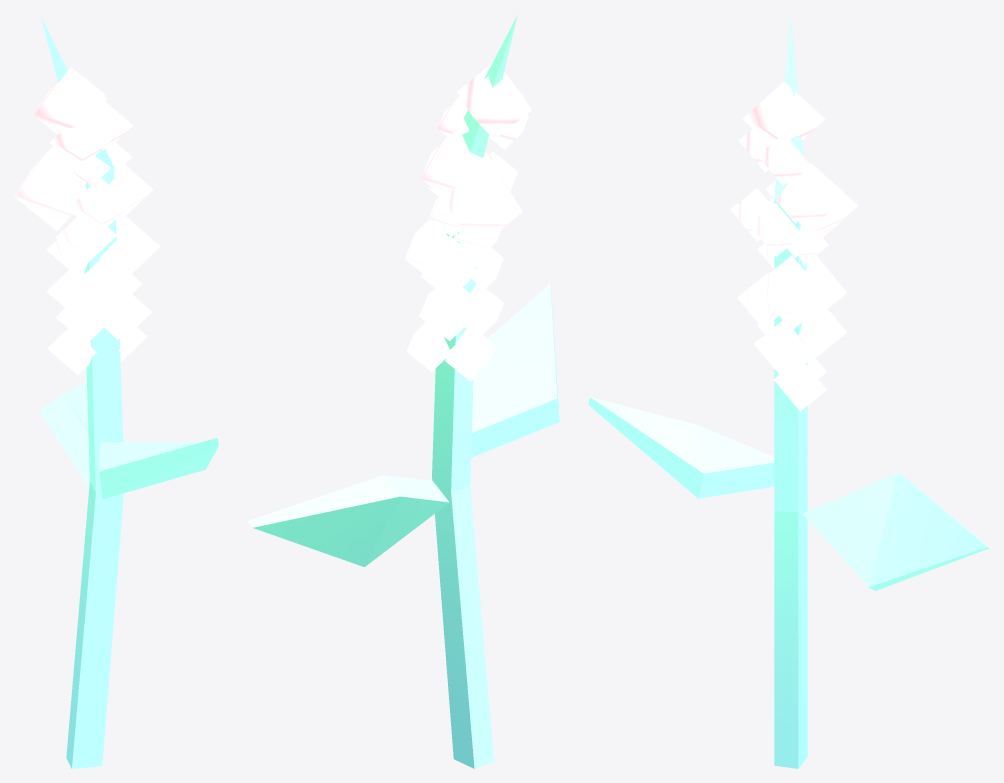
The model's file is Snowdrop_White.glb.
3 views of the same model, side by side, from view 1: azimuth 30°, elevation 25°; view 2: azimuth 150°, elevation 25°; view 3: azimuth 270°, elevation 25° (orthographic). The views are drawn at different scales.
Parts seen in each view (by area): view 1: SnowDrop_white_Material #150_0; view 2: SnowDrop_white_Material #150_0; view 3: SnowDrop_white_Material #150_0.
Part boxes in pixels (x1,y1,x2,y2): SnowDrop_white_Material #150_0: [14, 15, 218, 768]; SnowDrop_white_Material #150_0: [247, 14, 559, 768]; SnowDrop_white_Material #150_0: [588, 15, 989, 768].
Size of the model in its own units: 0.281 by 1.11 by 0.554.
